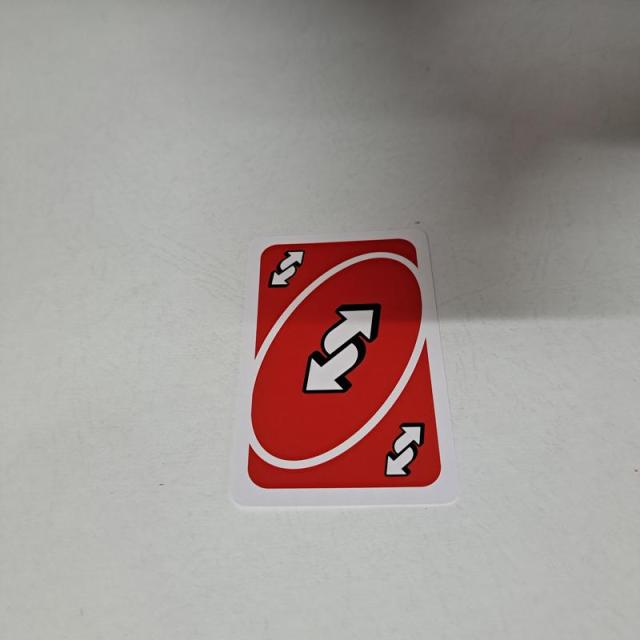Red_Card: (242, 227, 446, 493)
Reverse: (264, 245, 309, 292)
